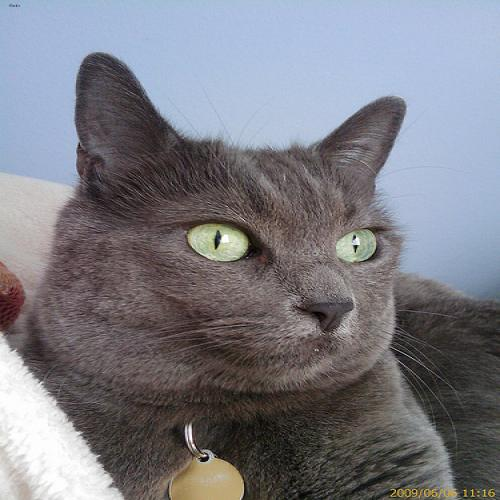rblue: (26, 36, 431, 408)
